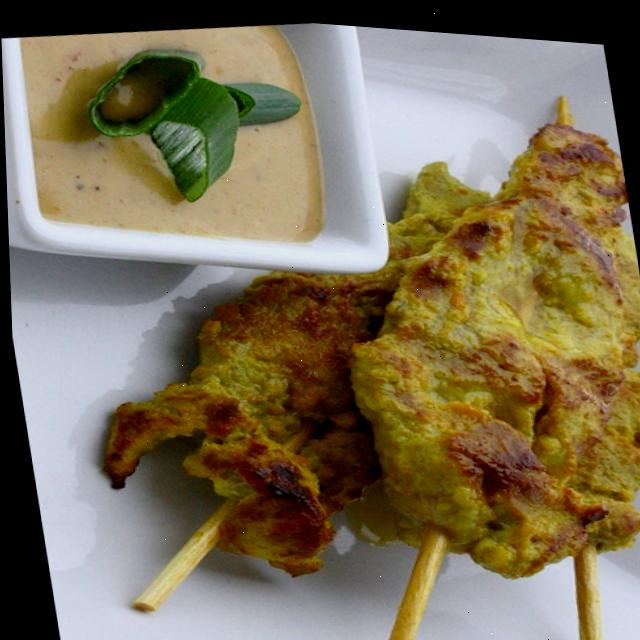牛肉菜式: (2, 27, 640, 640)
